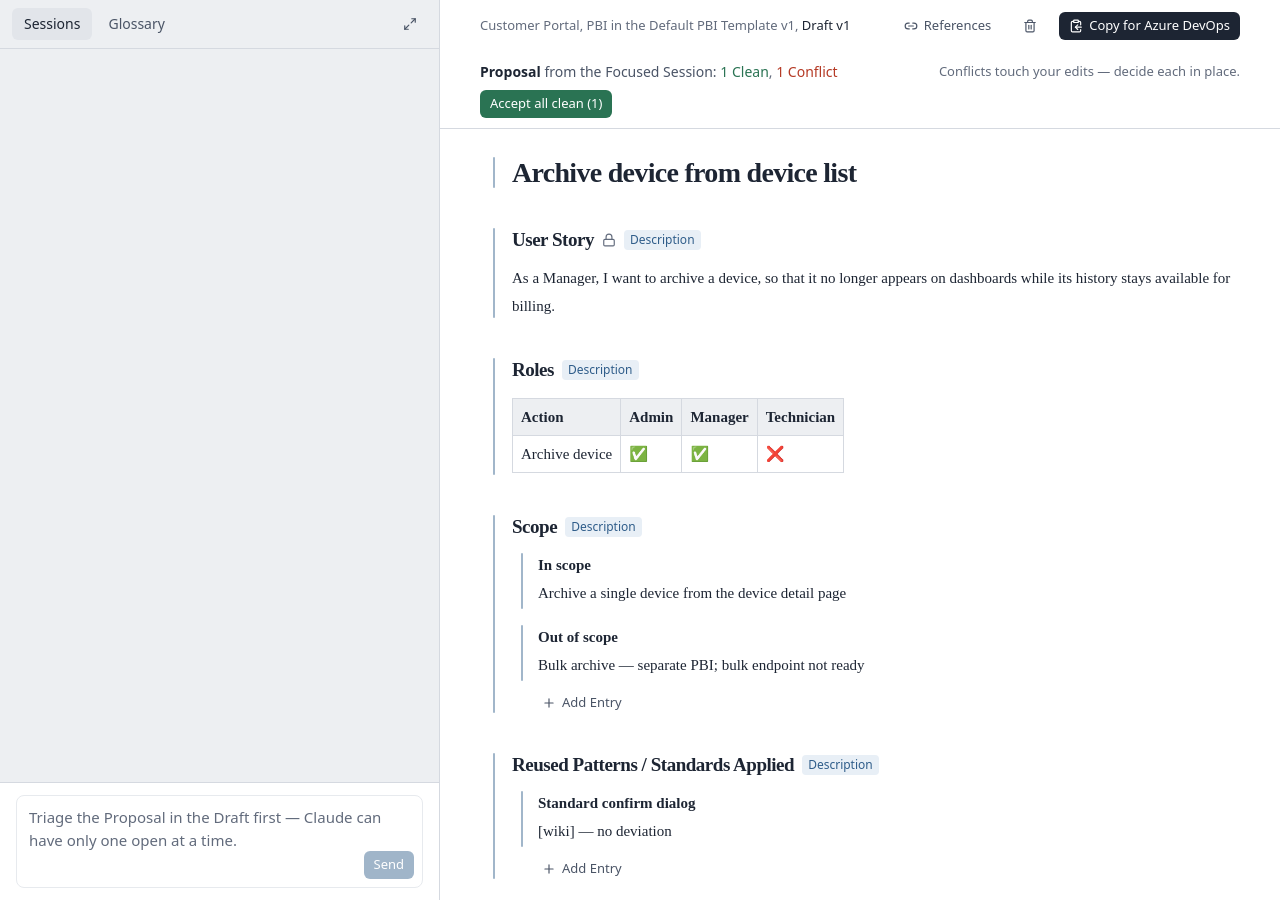
Test case: DraftPage from v1 › triages a Proposal: all Clean at once, a Conflict by hand
The image size is (1280, 900).
Check: the text "1 Clean" is shown, box left=720, top=62, right=769, bottom=81
Check: the text "1 Conflict" is shown, box left=776, top=62, right=838, bottom=81
Click the button "Accept all clean (1)" at (546, 104), box left=480, top=90, right=612, bottom=118
(page scrolled)
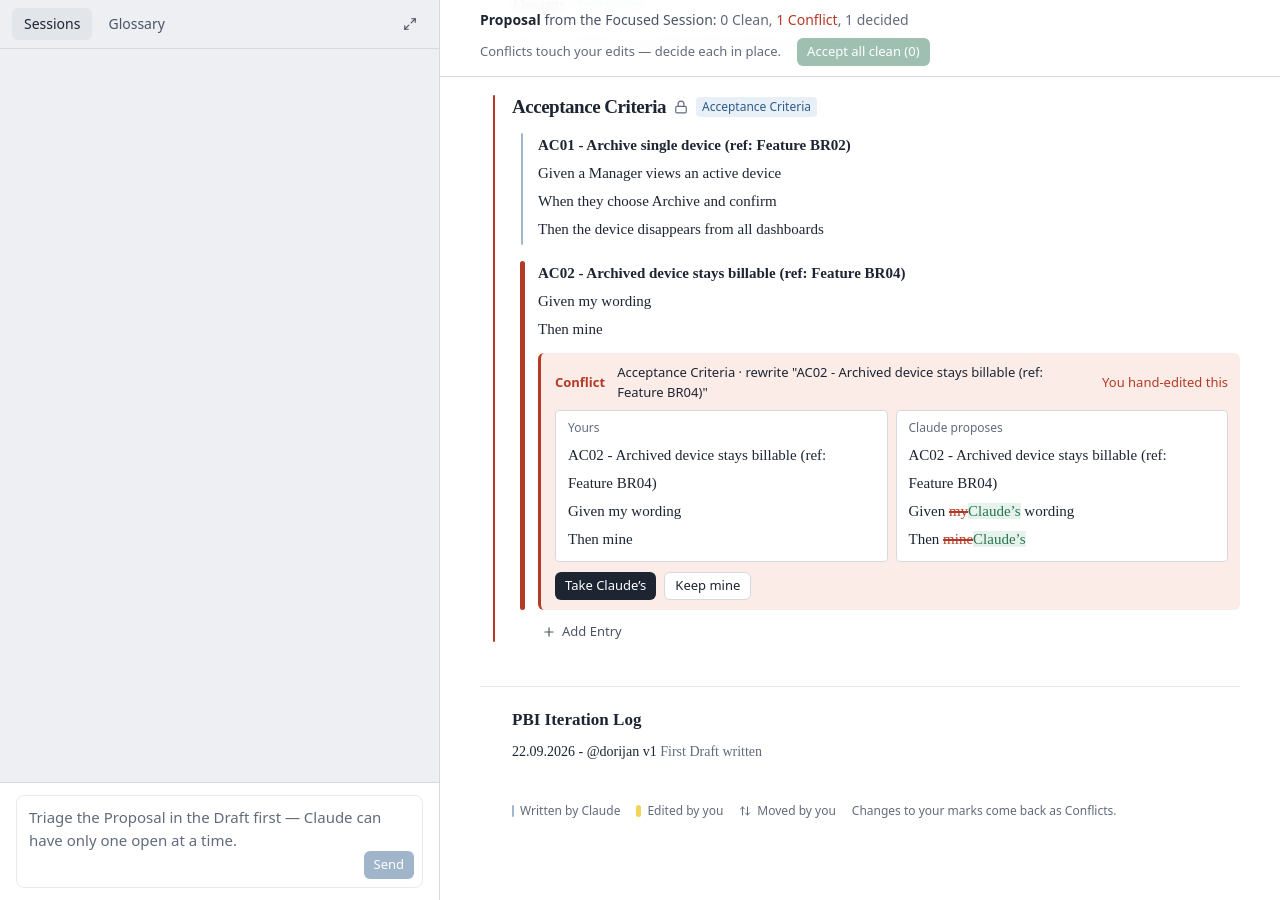
Check: the text "1 decided" is shown, box left=838, top=10, right=909, bottom=29
Check: the text "Yours" is shown, box left=568, top=419, right=600, bottom=436
Click the button "Keep mine" at (708, 586), box left=664, top=572, right=751, bottom=600
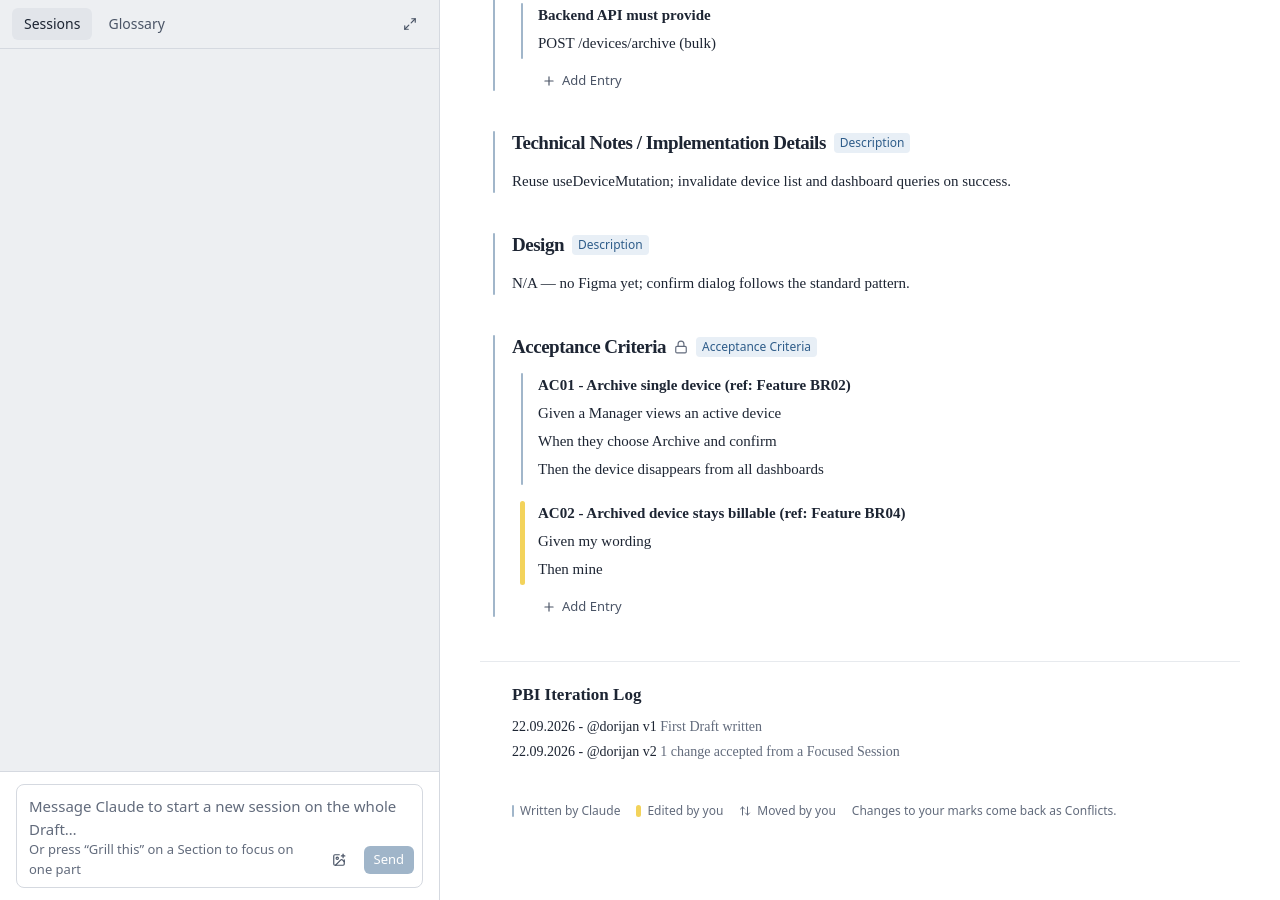
Check: the text "Clean," is gone
